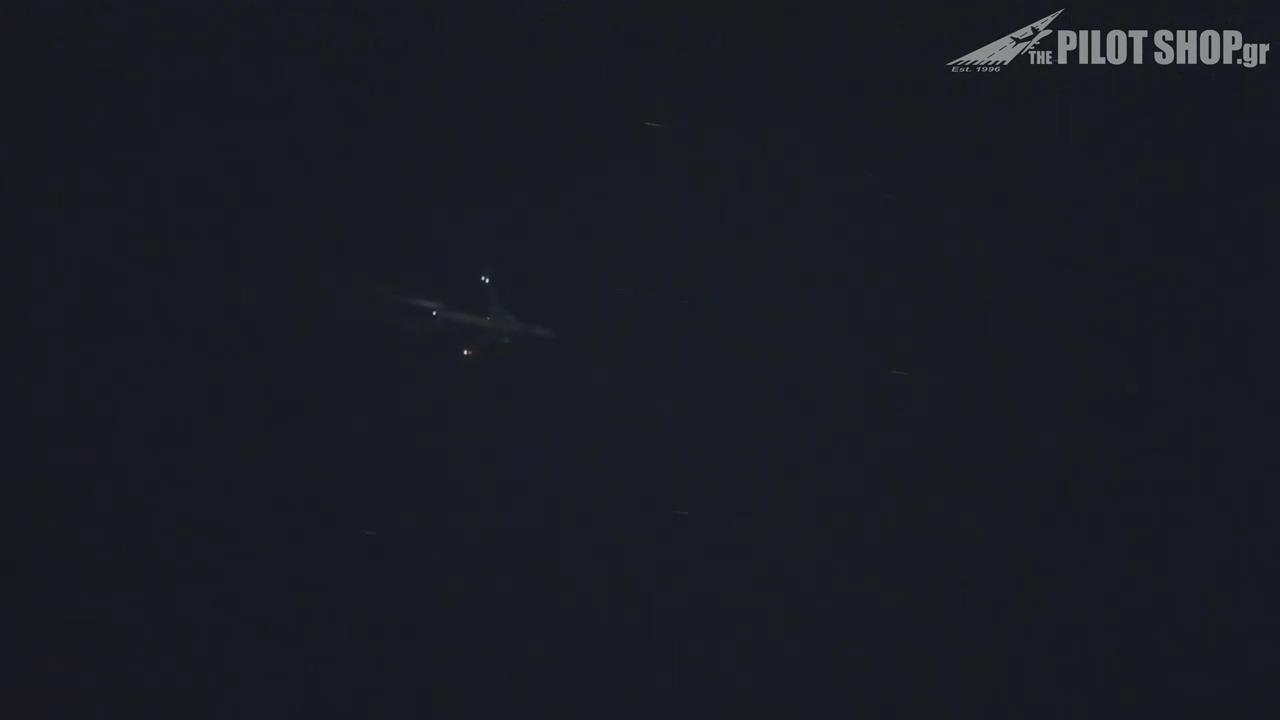Plane: (340, 259, 624, 381)
